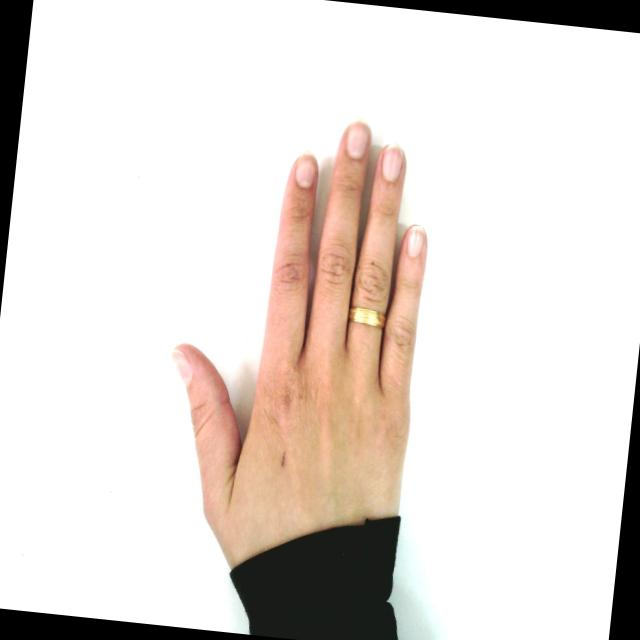Nail: (345, 120, 369, 157), (380, 143, 403, 180), (293, 151, 316, 186), (170, 348, 190, 385), (406, 223, 425, 256)
